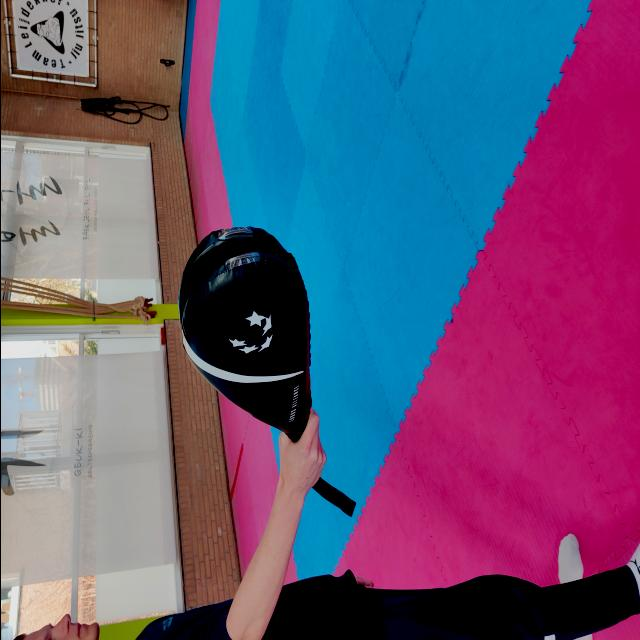paddle: (175, 220, 312, 444)
